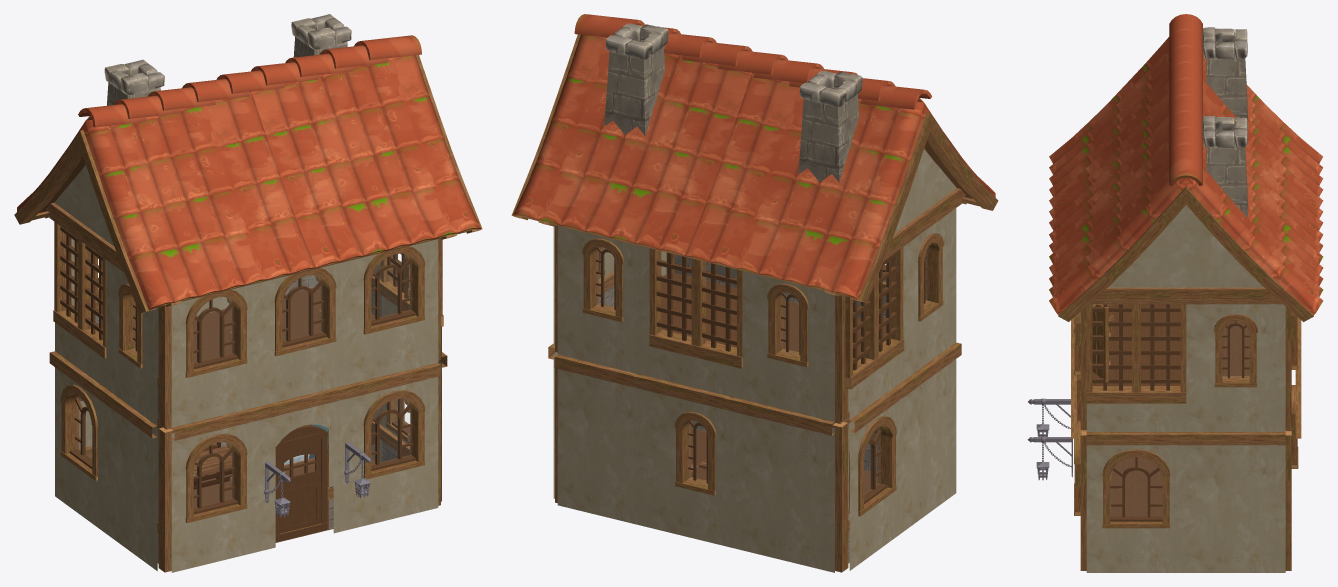
File: House_Mayor.glb
3 renders of one model, left to right at view 1: azimuth 30°, elevation 25°; view 2: azimuth 150°, elevation 25°; view 3: azimuth 270°, elevation 25°, orthographic. The views are drawn at different scales.
Visible parts, largest first — view 1: CasaHugo_RoofTiles, Wall_Plaster_Window_Wide_Round.020, Wall_Plaster_Window_Wide_Round.021, Wall_Plaster_Straight.019, Wall_Plaster_Door_Round.002, Wall_Plaster_WoodGrid.005, Wall_Plaster_Window_Wide_Round.025, Wall_Plaster_Window_Wide_Round.026, Wall_Plaster_Window_Wide_Round.024, Door_1_Round.011, Wall_Plaster_Window_Thin_Round.009, Wall_Plaster_Window_Wide_Round.022 (+20 smaller); view 2: CasaHugo_RoofTiles, Wall_Plaster_Straight.017, Wall_Plaster_Straight.018, Wall_Plaster_Window_Thin_Round.006, Wall_Plaster_WoodGrid.004, Wall_Plaster_Window_Thin_Round.008, Wall_Plaster_Window_Thin_Round.007, Wall_Plaster_Straight.019, Wall_Plaster_WoodGrid.005, Wall_Plaster_Window_Thin_Round.009, Prop_Chimney.010, Wall_Plaster_Window_Wide_Round.022 (+12 smaller); view 3: CasaHugo_RoofTiles, Wall_Plaster_Straight.020, Wall_Plaster_WoodGrid.006, Wall_Plaster_Window_Thin_Round.010, Wall_Plaster_Window_Wide_Round.023, Roof_Front_Brick4.015, Prop_Chimney.010, Prop_Chimney.009, Window_Wide_Round1.055, Window_Thin_Round1.049, Floor_WoodDark.073, Floor_WoodDark.067 (+15 smaller).
Part boxes in pixels (x1,y1,x2,y2): CasaHugo_RoofTiles: (14,35,482,312); Wall_Plaster_Window_Wide_Round.020: (166,406,263,572); Wall_Plaster_Window_Wide_Round.021: (349,363,441,529); Wall_Plaster_Straight.019: (101,389,166,570); Wall_Plaster_Door_Round.002: (260,384,352,550); Wall_Plaster_WoodGrid.005: (49,213,106,388); Wall_Plaster_Window_Wide_Round.025: (260,261,349,405); Wall_Plaster_Window_Wide_Round.026: (349,239,438,384); Wall_Plaster_Window_Wide_Round.024: (171,282,260,427); Door_1_Round.011: (275,425,327,542); Wall_Plaster_Window_Thin_Round.009: (101,250,158,425); Wall_Plaster_Window_Wide_Round.022: (49,351,106,533); CasaHugo_RoofTiles: (511,14,998,302); Wall_Plaster_Straight.017: (739,399,840,572); Wall_Plaster_Straight.018: (554,354,649,527); Wall_Plaster_Window_Thin_Round.006: (647,377,742,550); Wall_Plaster_WoodGrid.004: (649,248,742,399); Wall_Plaster_Window_Thin_Round.008: (557,226,649,376); Wall_Plaster_Window_Thin_Round.007: (742,271,834,421); Wall_Plaster_Straight.019: (895,342,961,531); Wall_Plaster_WoodGrid.005: (845,238,908,419); Wall_Plaster_Window_Thin_Round.009: (903,199,961,380); Prop_Chimney.010: (604,23,668,135); Wall_Plaster_Window_Wide_Round.022: (840,381,908,570); CasaHugo_RoofTiles: (1049,14,1323,321); Wall_Plaster_Straight.020: (1186,432,1285,572); Wall_Plaster_WoodGrid.006: (1086,299,1186,431); Wall_Plaster_Window_Thin_Round.010: (1186,299,1285,431); Wall_Plaster_Window_Wide_Round.023: (1086,432,1186,572); Roof_Front_Brick4.015: (1095,205,1276,298); Prop_Chimney.010: (1202,115,1247,217); Prop_Chimney.009: (1202,27,1247,128); Window_Wide_Round1.055: (1102,449,1170,528); Window_Thin_Round1.049: (1214,314,1257,387); Floor_WoodDark.073: (1092,343,1180,385); Floor_WoodDark.067: (1110,484,1162,515).
Size of the model in its own units: 7.57 by 9.44 by 5.94.
Materials: 38 (35 with a texture image).
